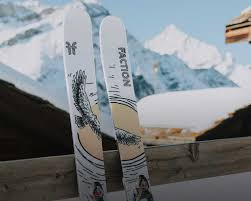skis: (60, 6, 155, 201)
